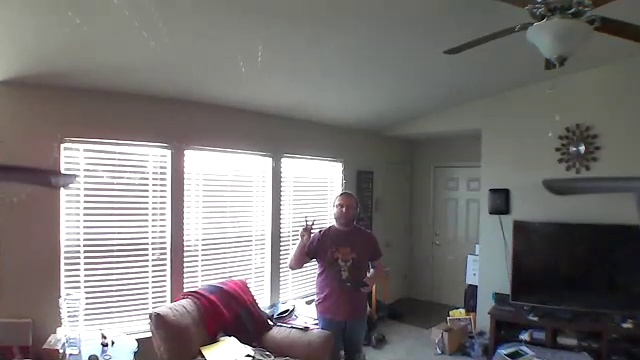peace: (297, 214, 318, 243)
